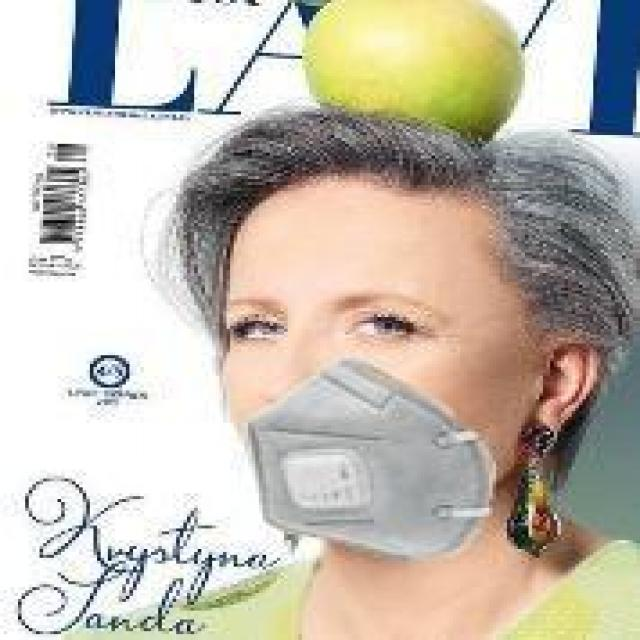mask: (176, 117, 626, 578)
